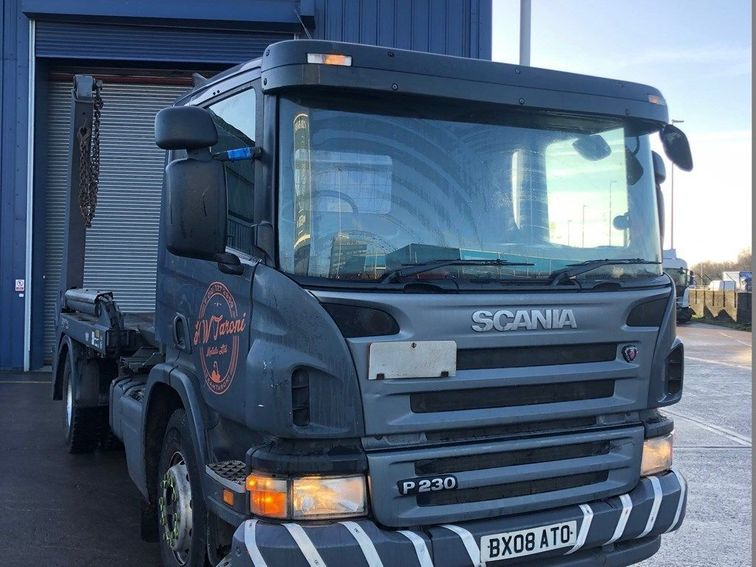Semi: (52, 38, 692, 566)
